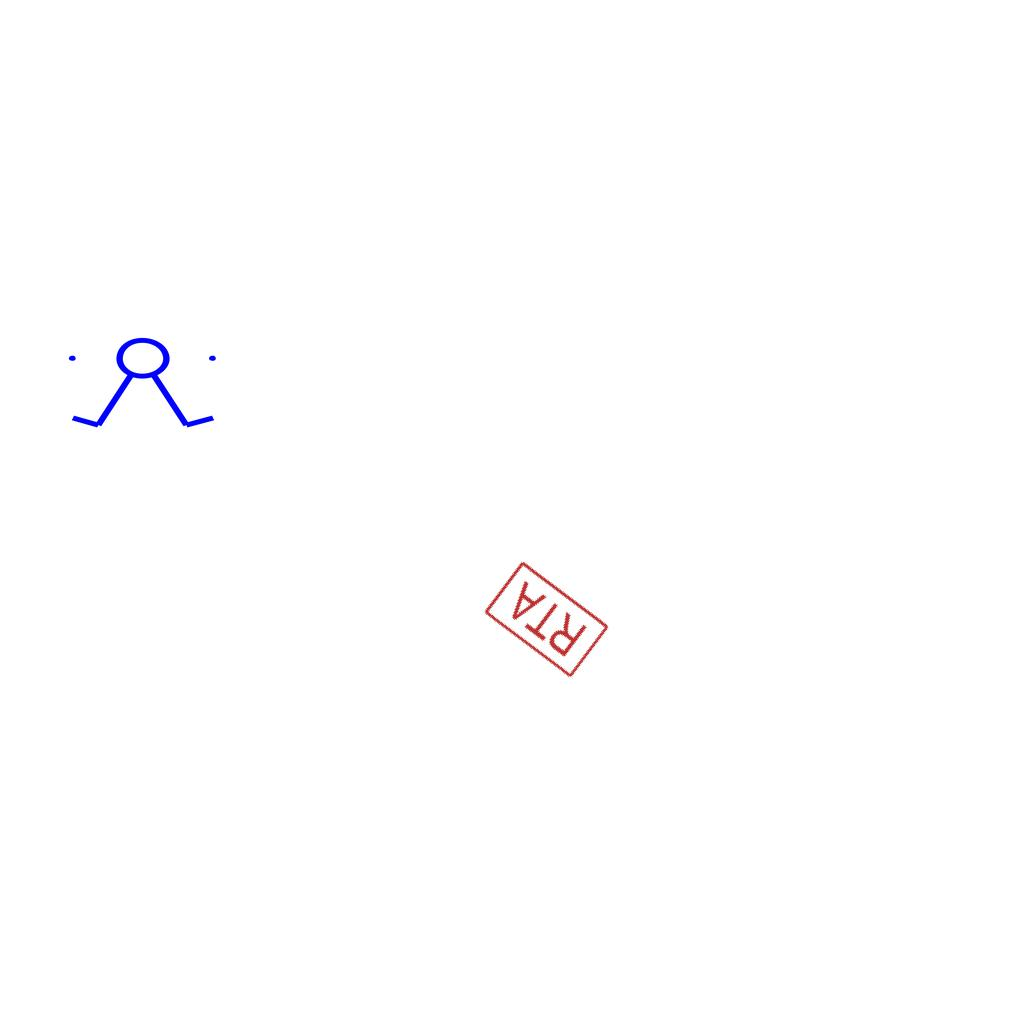Ruf-und_Abstelltaster: (481, 558, 614, 682)
Serienschalter: (60, 336, 228, 432)
